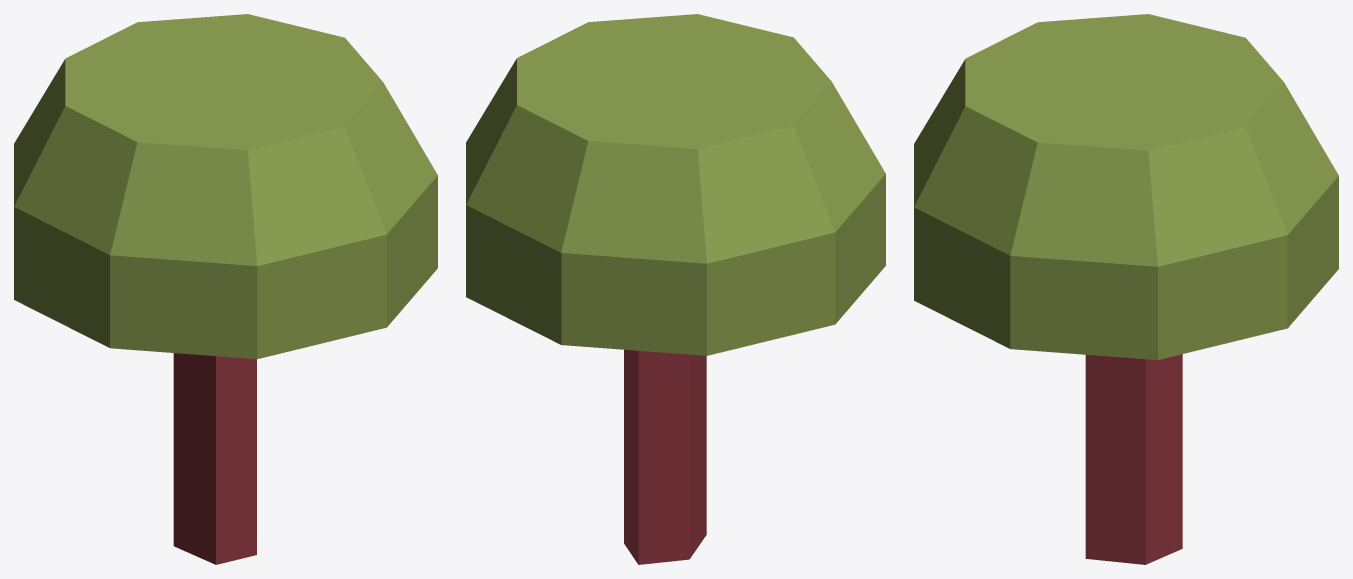
The model's file is tree_blocki.fbx.
3 renders of one model, left to right at view 1: azimuth 30°, elevation 25°; view 2: azimuth 150°, elevation 25°; view 3: azimuth 270°, elevation 25°, orthographic.
Parts seen in each view (by area): view 1: leaf, truck; view 2: leaf, truck; view 3: leaf, truck.
Boxes of the visible parts, x1,y1,x2,y2 form: leaf: (14, 14, 437, 359); truck: (173, 353, 256, 564); leaf: (466, 14, 885, 355); truck: (624, 349, 706, 564); leaf: (914, 14, 1338, 359); truck: (1085, 354, 1182, 564).
Bounding box in the file's own units: 78.6 × 93.75 × 77.41.
2 materials, 2 textured.
